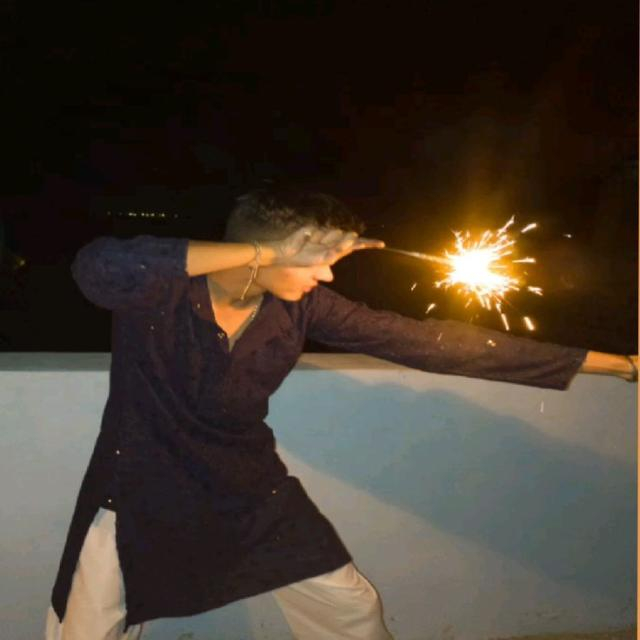fire: (446, 246, 519, 294)
